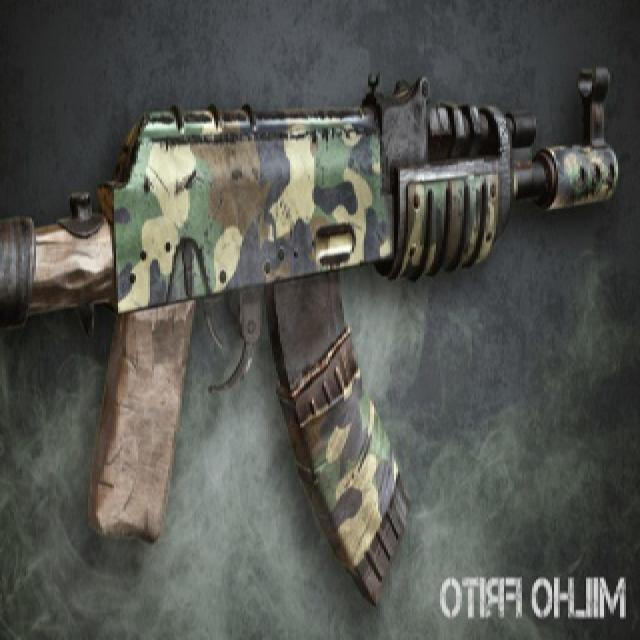rifle: (3, 55, 637, 591)
